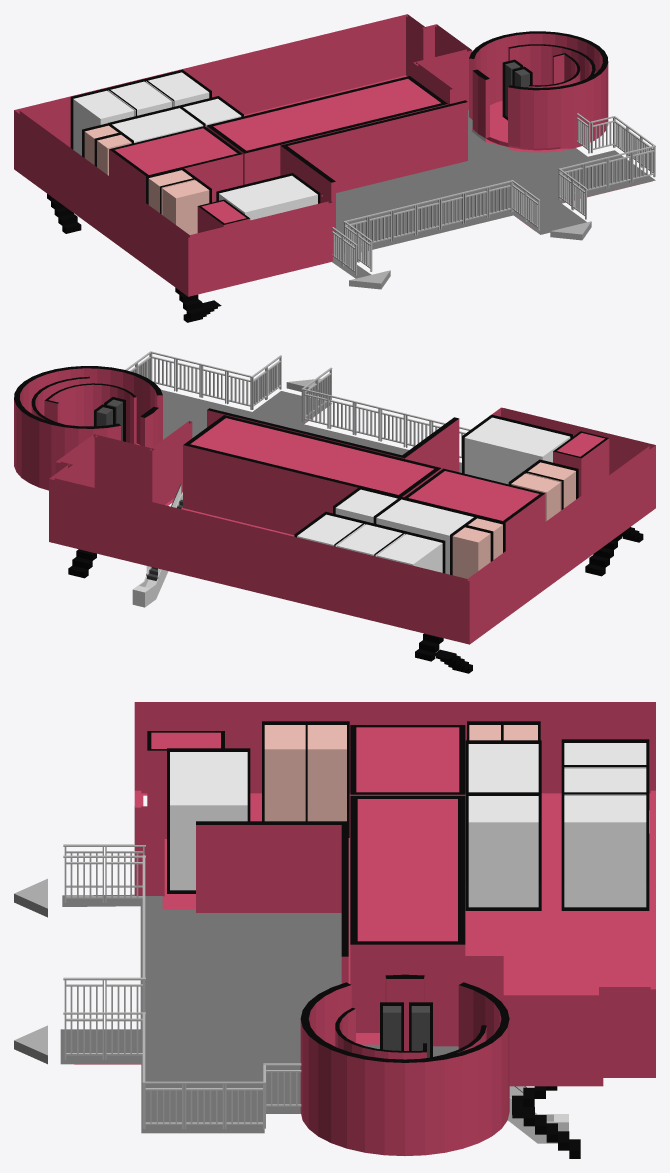
The picture shows the model from 3 angles, top to bottom: view 1: azimuth 30°, elevation 25°; view 2: azimuth 150°, elevation 25°; view 3: azimuth 270°, elevation 25°; orthographic projection. The views are drawn at different scales.
Parts seen in each view (by area): view 1: object, object_9_8_1, room_9_8_5, room_9_8_1, トイレ_9_8_4, room_9_8_6, room_9_8_3, room_9_8_2, room_9_8_4, トイレ_9_8_2, 階段_9_8_1, トイレ_9_8_3 (+5 smaller); view 2: object, object_9_8_1, room_9_8_5, room_9_8_6, トイレ_9_8_1, room_9_8_1, room_9_8_2, room_9_8_3, room_9_8_4, エスカレーター_9_8_1, トイレ_9_8_2, 階段_9_8_2 (+6 smaller); view 3: object, object_9_8_1, room_9_8_3, room_9_8_4, room_9_8_5, トイレ_9_8_4, トイレ_9_8_2, room_9_8_6, room_9_8_2, room_9_8_1, 階段_9_8_3, エレベーター_9_8_1 (+9 smaller).
Boxes of the visible parts, x1,y1,x2,y2 form: object: (14,14,655,296); object_9_8_1: (332,113,655,275); room_9_8_5: (219,175,317,220); room_9_8_1: (73,90,134,155); トイレ_9_8_4: (162,180,209,234); room_9_8_6: (112,108,203,142); room_9_8_3: (145,72,209,107); room_9_8_2: (108,81,171,116); room_9_8_4: (183,98,241,126); トイレ_9_8_2: (148,170,194,214); 階段_9_8_1: (175,287,221,322); トイレ_9_8_3: (97,135,131,175); object: (14,366,655,644); object_9_8_1: (125,351,470,458); room_9_8_5: (464,417,570,484); room_9_8_6: (376,499,473,574); トイレ_9_8_1: (452,527,490,578); room_9_8_1: (377,534,442,572); room_9_8_2: (337,524,405,556); room_9_8_3: (297,514,365,546); room_9_8_4: (335,489,397,523); エスカレーター_9_8_1: (132,484,182,607); トイレ_9_8_2: (511,473,560,521); 階段_9_8_2: (415,633,472,673); object: (60,702,655,1155); object_9_8_1: (63,844,301,1129); room_9_8_3: (564,796,646,907); room_9_8_4: (468,796,538,907); room_9_8_5: (170,752,247,890); トイレ_9_8_4: (264,725,305,821); トイレ_9_8_2: (307,725,346,821); room_9_8_6: (468,744,538,792); room_9_8_2: (564,768,646,795); room_9_8_1: (564,743,646,768); 階段_9_8_3: (512,1086,580,1158); エレベーター_9_8_1: (383,1006,429,1057).
Bounding box in the file's own units: 1.69 × 0.4189 × 1.25.
